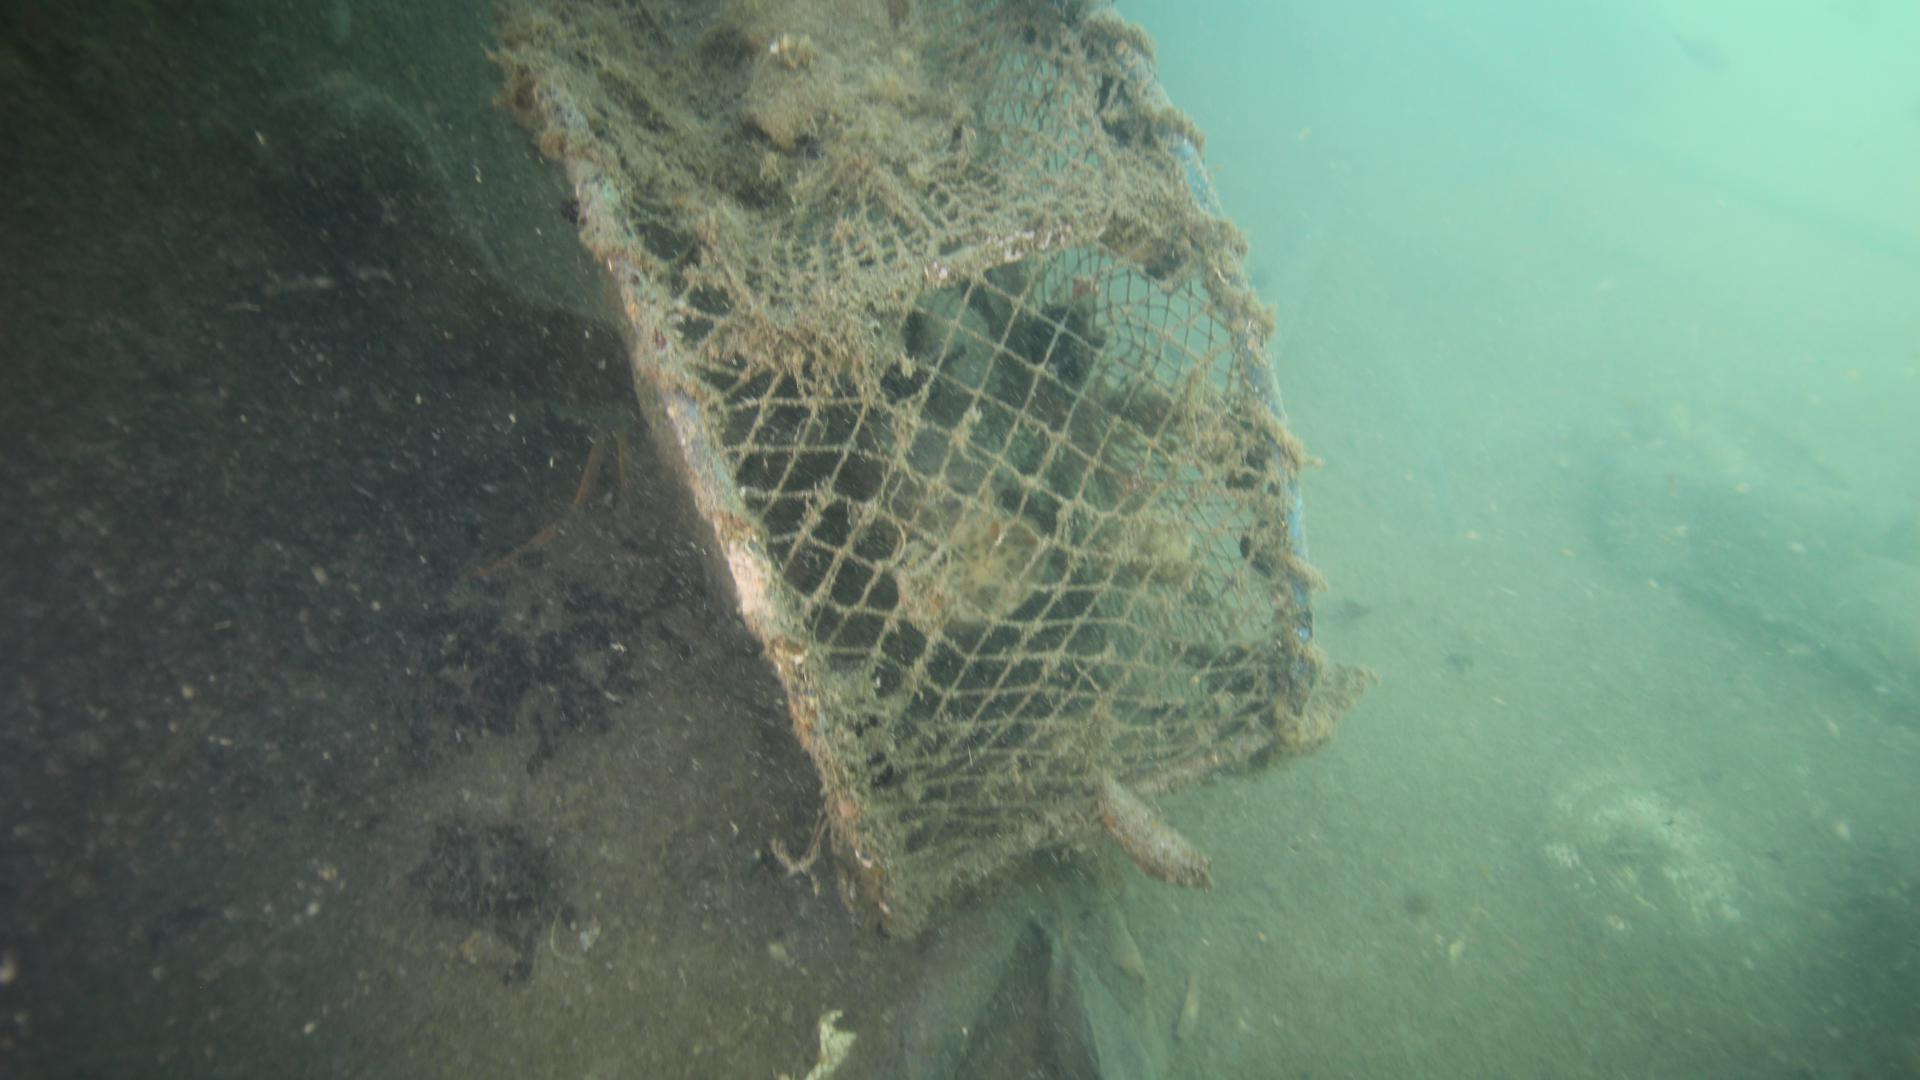circular fish trap: (516, 0, 1329, 934)
